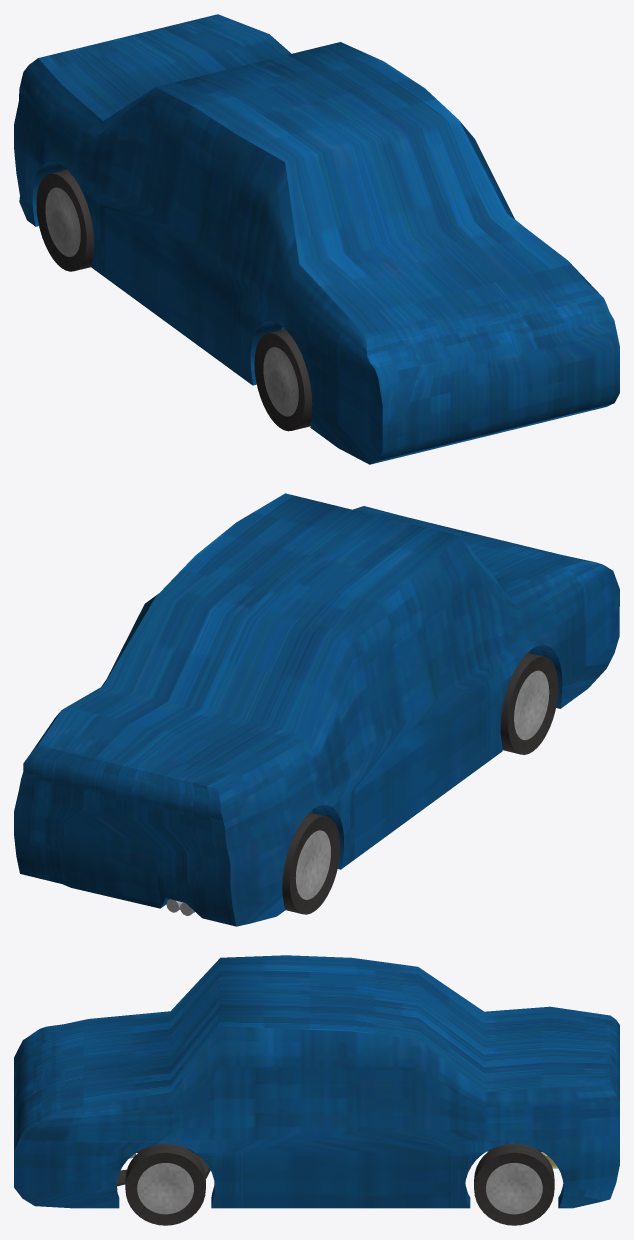
Rendered from car_2020041704.fbx.
3 renders of one model, top to bottom at view 1: azimuth 30°, elevation 25°; view 2: azimuth 150°, elevation 25°; view 3: azimuth 270°, elevation 25°, orthographic. The views are drawn at different scales.
Visible parts, largest first — view 1: pasted__pCube2, tire04, tire02, front_wheel4, front_wheel2; view 2: pasted__pCube2, tire04, tire02, front_wheel4, front_wheel2; view 3: pasted__pCube2, tire01, tire03, front_wheel1, front_wheel3.
Boxes of the visible parts, bbox=[...] form: pasted__pCube2: bbox=[14, 14, 619, 464]; tire04: bbox=[254, 329, 312, 431]; tire02: bbox=[36, 169, 94, 271]; front_wheel4: bbox=[263, 347, 298, 416]; front_wheel2: bbox=[45, 187, 80, 256]; pasted__pCube2: bbox=[14, 493, 619, 926]; tire04: bbox=[500, 653, 558, 754]; tire02: bbox=[282, 812, 340, 914]; front_wheel4: bbox=[514, 670, 549, 740]; front_wheel2: bbox=[295, 830, 330, 899]; pasted__pCube2: bbox=[14, 955, 619, 1208]; tire01: bbox=[474, 1143, 554, 1225]; tire03: bbox=[125, 1143, 205, 1225]; front_wheel1: bbox=[486, 1163, 542, 1214]; front_wheel3: bbox=[137, 1163, 193, 1214].
Bounding box in the file's own units: 177 × 154 × 459.
11 materials, 10 textured.
